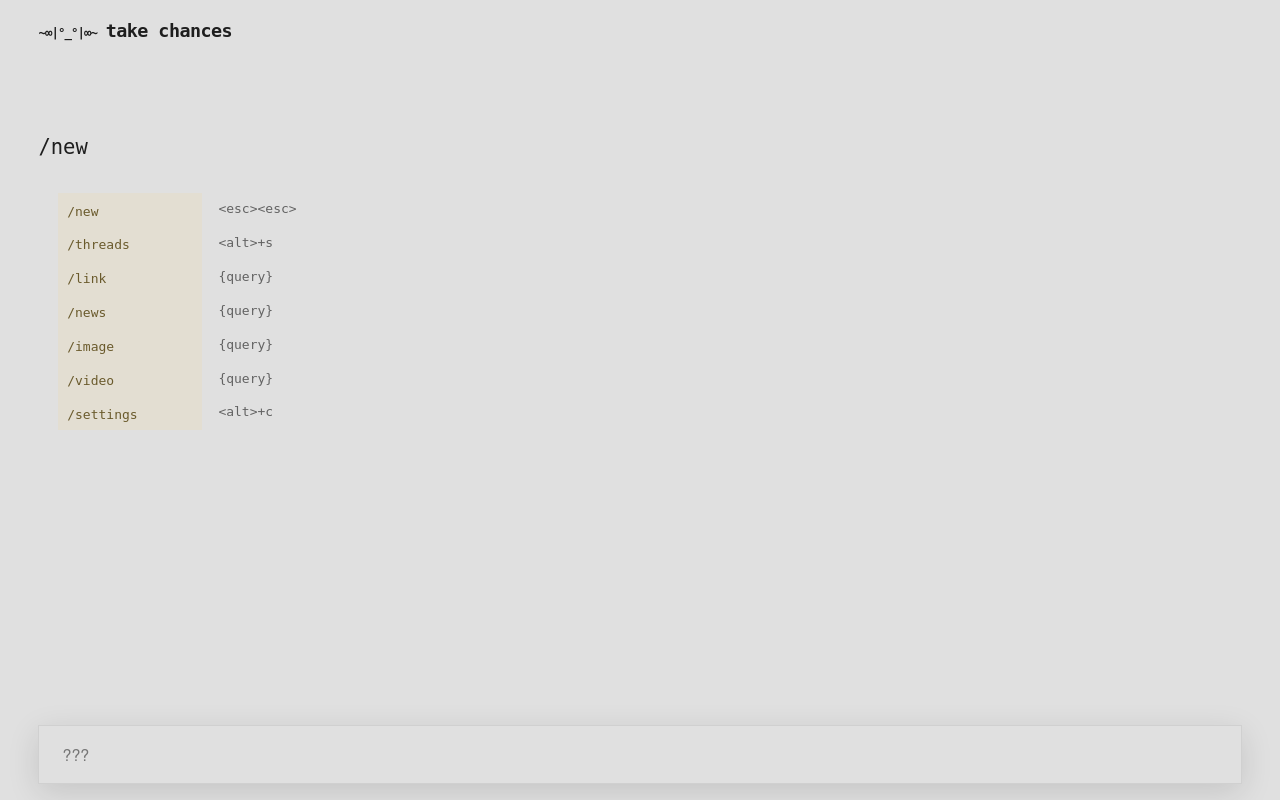
Test case: workspace controller › populates and focuses the prompt from the visible search command actions
Expected: the text "{query}" is shown 4 times, 218,269 -> 273,284; 218,303 -> 273,318; 218,337 -> 273,352; 218,370 -> 273,386
Click the button "/image".
click(130, 346)  # box 58,329 -> 202,362
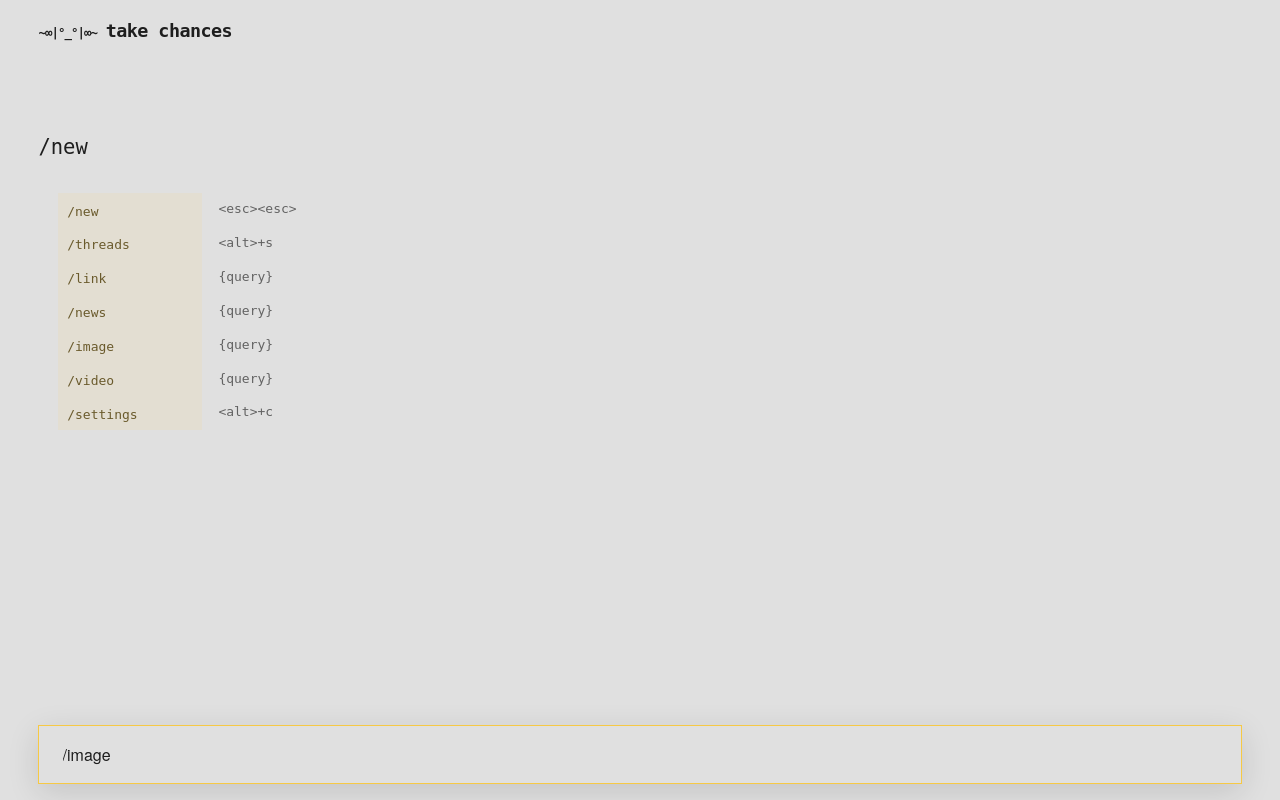
Expected: the field named "Search query" holds "/image ", 51,733 -> 1229,777
